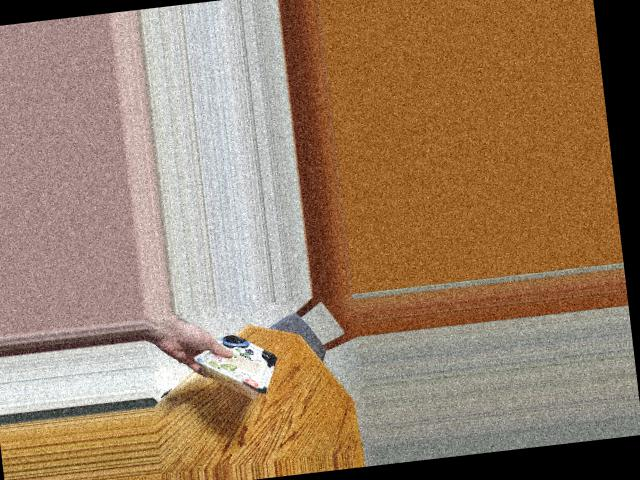cheese: (198, 327, 287, 417)
